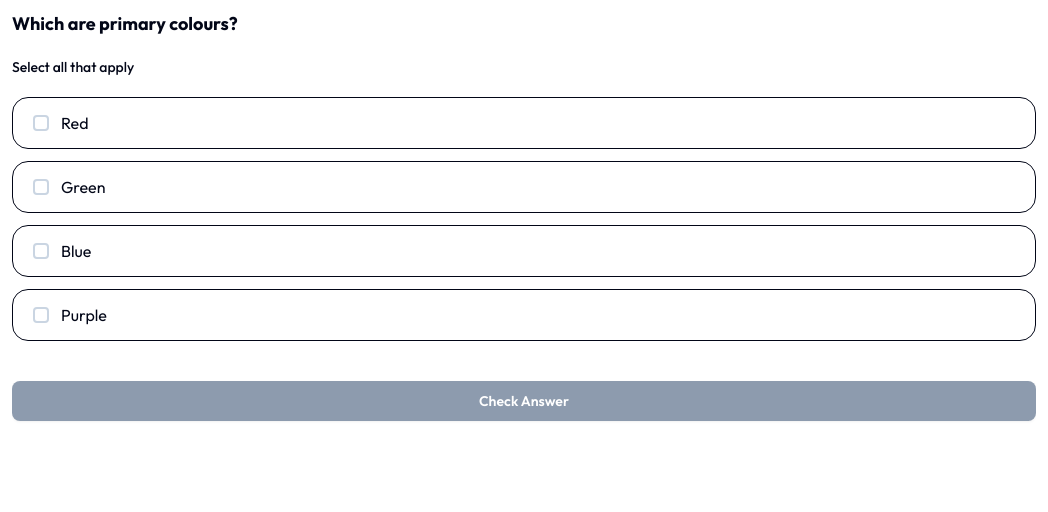
QuizInlineViewer — select_all › shows incorrect feedback when wrong options are chosen
The width and height of the screenshot is (1048, 512).
Step 1. Click the button "Green" → (83, 187), box top-left (12, 161), bottom-right (1036, 213)
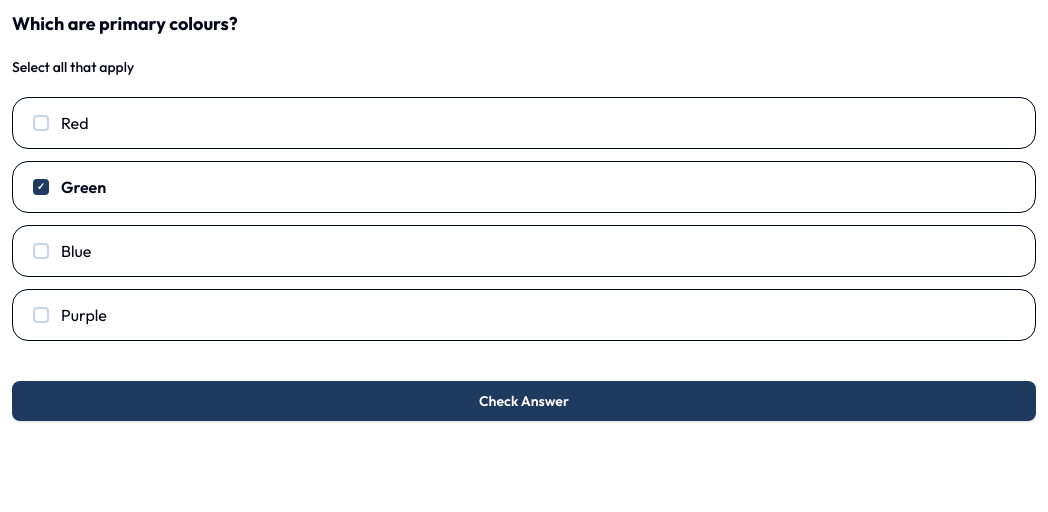
Step 2. Click the button "Check Answer" → (524, 401), box top-left (12, 381), bottom-right (1036, 421)
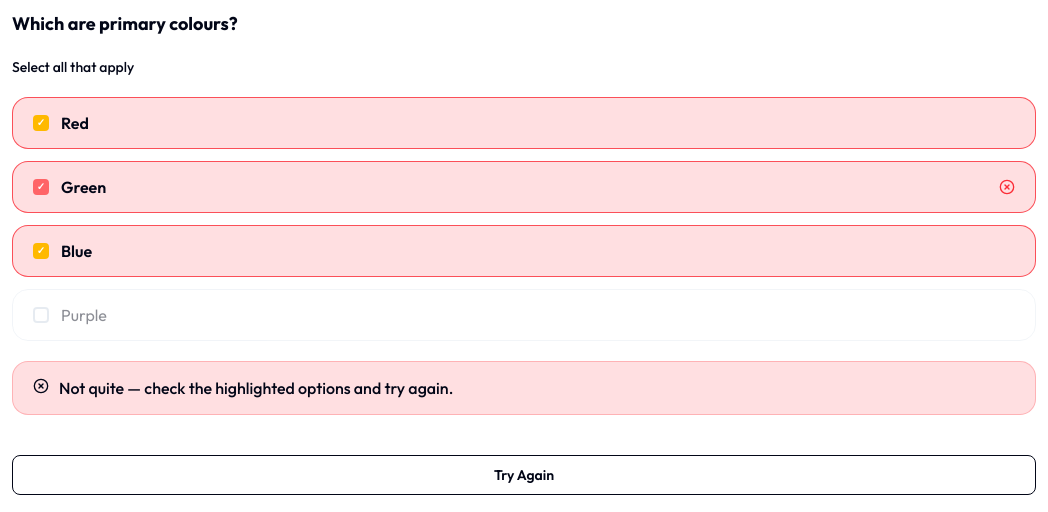
Expected: the text "Not quite — check the highlighted options and try again." is shown, top-left (59, 376), bottom-right (453, 400)
